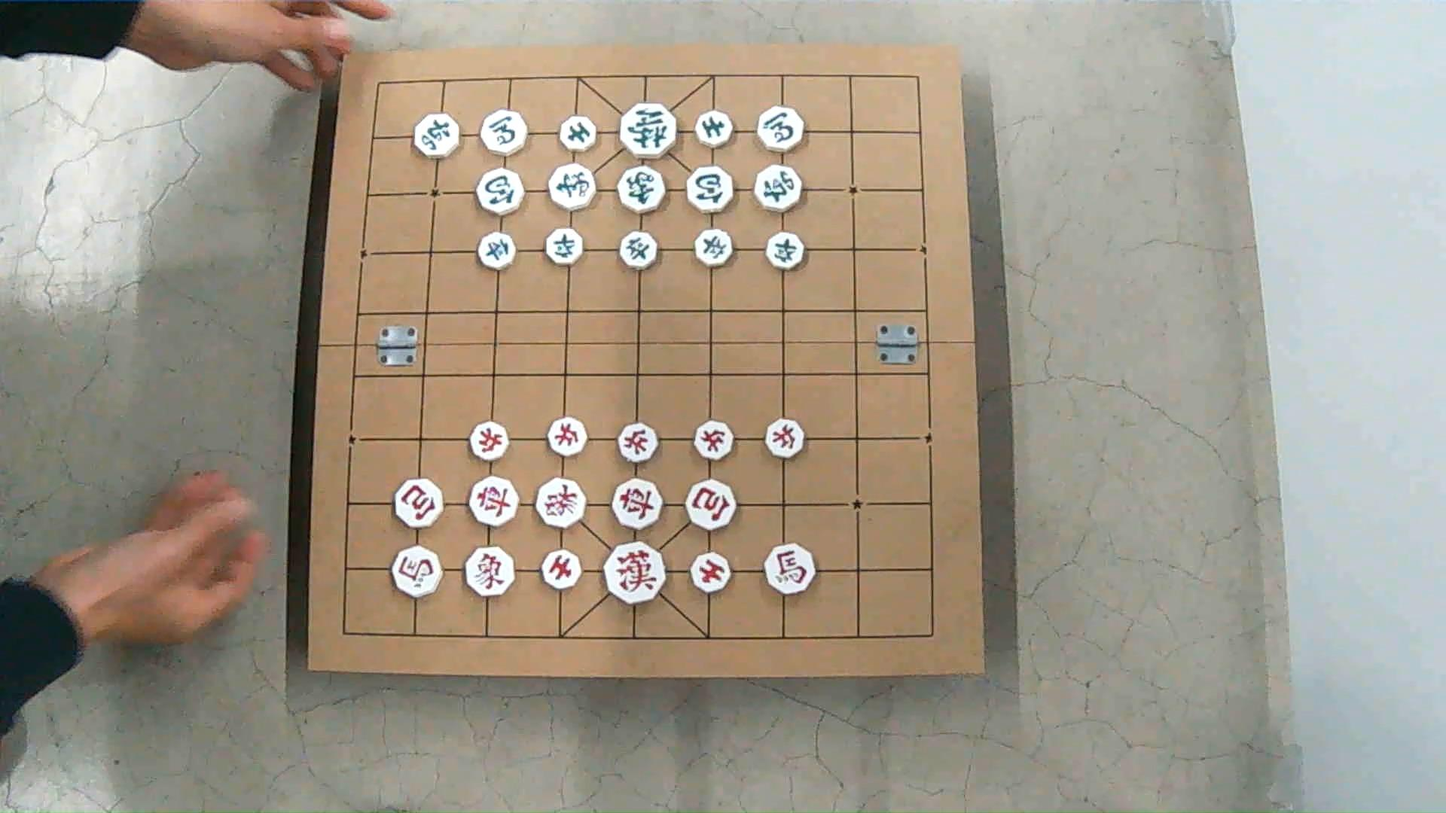cha_green: (755, 164, 804, 212), (413, 113, 459, 158)
cha_red: (612, 478, 662, 528), (469, 477, 519, 526)
jol_green: (619, 231, 657, 269), (767, 232, 805, 269), (477, 232, 514, 269), (696, 229, 733, 266), (546, 228, 582, 265)
jol_red: (468, 421, 509, 461), (618, 422, 657, 463), (694, 421, 733, 460), (548, 417, 587, 456), (766, 419, 804, 458)
ma_green: (756, 106, 805, 151), (480, 110, 528, 155)
ma_red: (392, 546, 442, 597), (765, 544, 815, 594)
po_green: (686, 166, 734, 213), (476, 168, 523, 215)
po_red: (685, 480, 737, 530), (393, 478, 443, 527)
sa_green: (695, 110, 734, 148), (558, 115, 597, 151)
sa_red: (691, 552, 731, 592), (541, 550, 581, 589)
sang_green: (618, 165, 666, 213), (548, 163, 596, 210)
sang_red: (536, 478, 585, 528), (465, 547, 515, 595)
wang_green: (620, 102, 679, 158)
wang_red: (604, 540, 665, 604)
